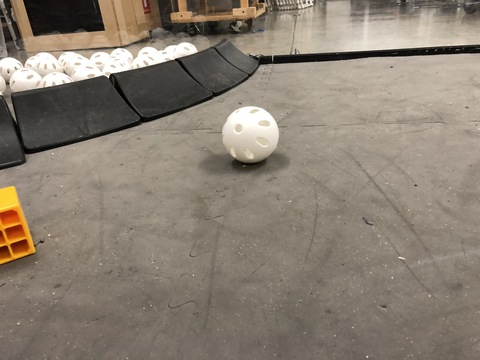ball: (212, 108, 283, 167)
block: (3, 187, 40, 279)
